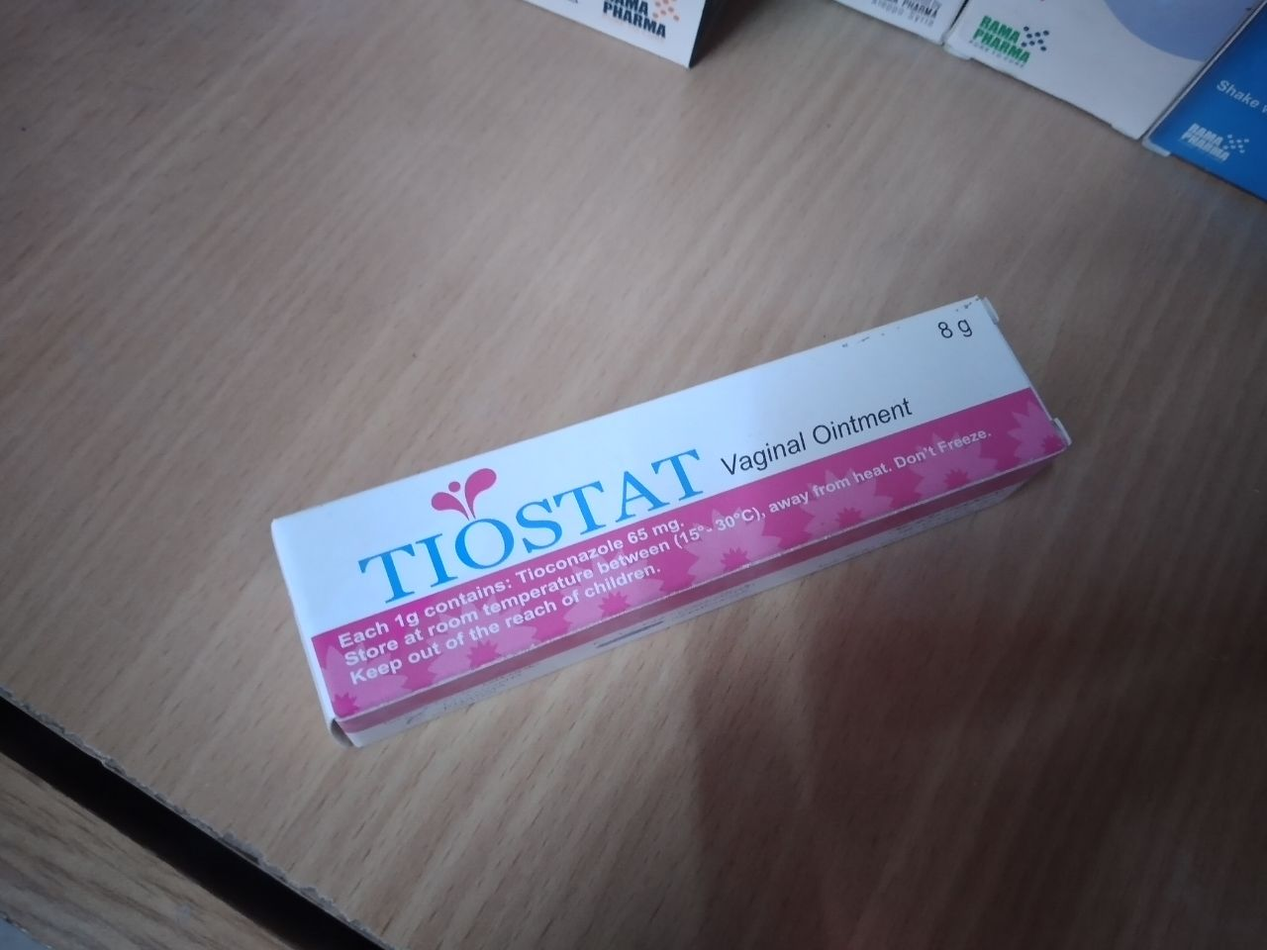Medicine: (240, 289, 1081, 755)
